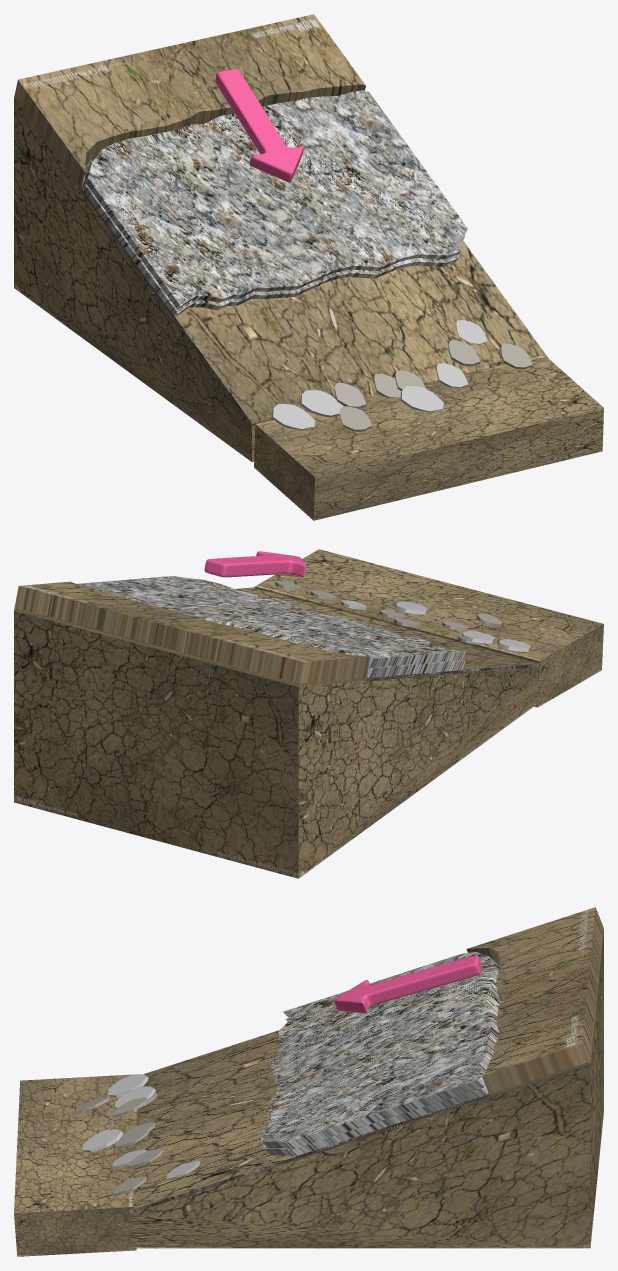
File: 基岩滑坡.gltf
The picture shows the model from 3 angles, top to bottom: view 1: azimuth 30°, elevation 25°; view 2: azimuth 150°, elevation 25°; view 3: azimuth 270°, elevation 25°; orthographic projection. The views are drawn at different scales.
Parts seen in each view (by area): view 1: node__-57752, node_007_-57822, node__-57778, node_Box001_-57812, node_003_-57814, node_005_-57818, node_arrow_1_-57780, node__-57750, node_3_-57758, node_1_-57754, node_4_-57760; view 2: node_005_-57818, node_Box001_-57812, node__-57778, node__-57752, node_006_-57820, node_003_-57814, node_007_-57822, node_arrow_1_-57780, node__-57750, node_010_-57828; view 3: node_Box001_-57812, node__-57752, node__-57778, node_007_-57822, node_003_-57814, node_005_-57818, node_arrow_1_-57780, node__-57750, node_006_-57820, node_009_-57826, node_3_-57758, node_4_-57760.
Boxes of the visible parts, <box> form: node__-57752: <box>84,90,467,309</box>; node_007_-57822: <box>175,241,547,423</box>; node__-57778: <box>254,354,603,520</box>; node_Box001_-57812: <box>14,98,272,462</box>; node_003_-57814: <box>18,14,365,171</box>; node_005_-57818: <box>14,80,365,189</box>; node_arrow_1_-57780: <box>215,68,303,182</box>; node__-57750: <box>82,172,465,317</box>; node_3_-57758: <box>400,386,443,411</box>; node_1_-57754: <box>300,390,343,417</box>; node_4_-57760: <box>272,404,315,429</box>; node_005_-57818: <box>14,611,370,878</box>; node_Box001_-57812: <box>298,667,538,878</box>; node__-57778: <box>254,549,603,707</box>; node__-57752: <box>78,576,465,668</box>; node_006_-57820: <box>14,586,302,687</box>; node_003_-57814: <box>19,581,368,662</box>; node_007_-57822: <box>235,587,537,669</box>; node_arrow_1_-57780: <box>204,551,305,577</box>; node__-57750: <box>366,660,465,677</box>; node_010_-57828: <box>366,663,538,681</box>; node_Box001_-57812: <box>130,1065,590,1248</box>; node__-57752: <box>260,952,499,1149</box>; node__-57778: <box>14,1074,139,1256</box>; node_007_-57822: <box>129,1030,296,1210</box>; node_003_-57814: <box>467,907,595,1075</box>; node_005_-57818: <box>466,930,603,1247</box>; node_arrow_1_-57780: <box>334,955,481,1013</box>; node__-57750: <box>262,996,500,1156</box>; node_006_-57820: <box>582,907,603,1063</box>; node_009_-57826: <box>129,1094,489,1213</box>; node_3_-57758: <box>82,1129,123,1152</box>; node_4_-57760: <box>107,1074,148,1097</box>.
Size of the model in its own units: 0.4069 by 0.3249 by 0.7397.
